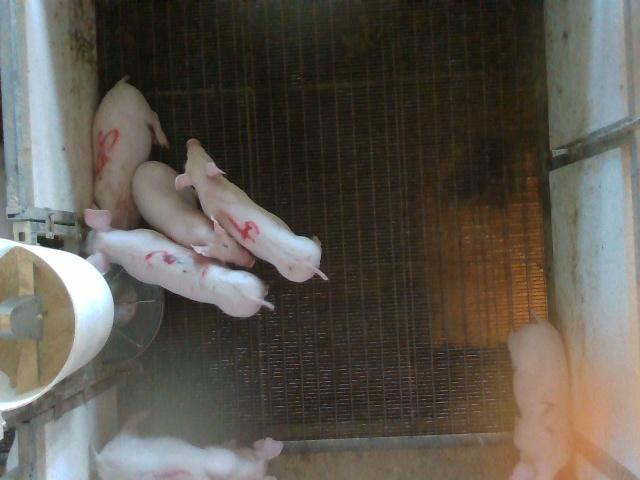pig-1: (95, 431, 282, 479)
pig-2: (509, 320, 574, 478)
pig-3: (85, 210, 274, 317)
pig-4: (176, 139, 328, 282)
pig-5: (94, 76, 169, 229)
